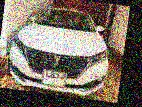car: (5, 2, 115, 99)
